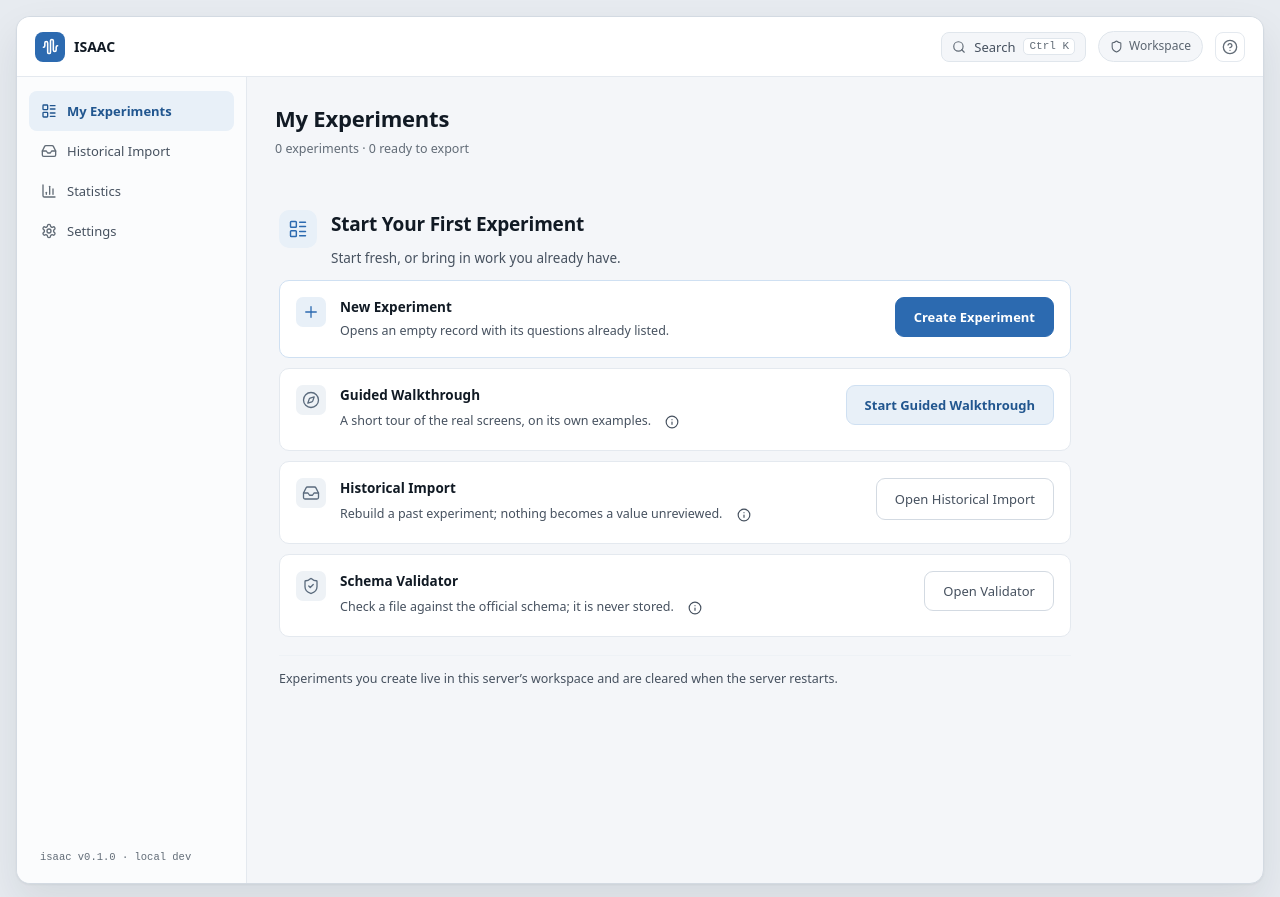
Test: My Experiments · Create Experiment › QA A-29: says the experiment is being created while the request is in flight
Expected: the heading "Start Your First Experiment" is shown, x1=331 y1=210 x2=621 y2=240
Click the button "Create Experiment": (974, 316) x1=895 y1=296 x2=1054 y2=336
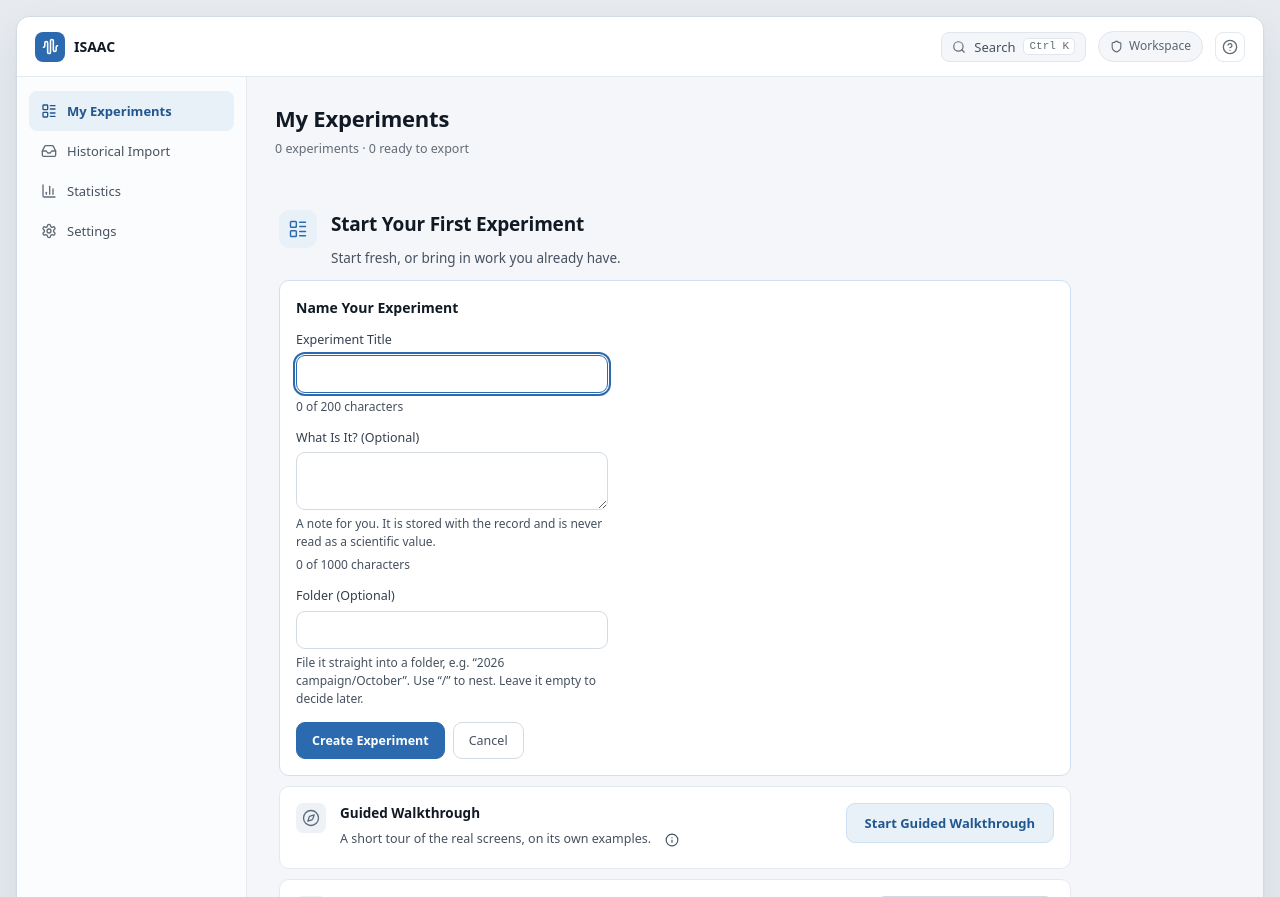
In the field labelled "Experiment Title": (452, 374) x1=296 y1=355 x2=608 y2=393, type "Synthetic in-flight probe (fake)"
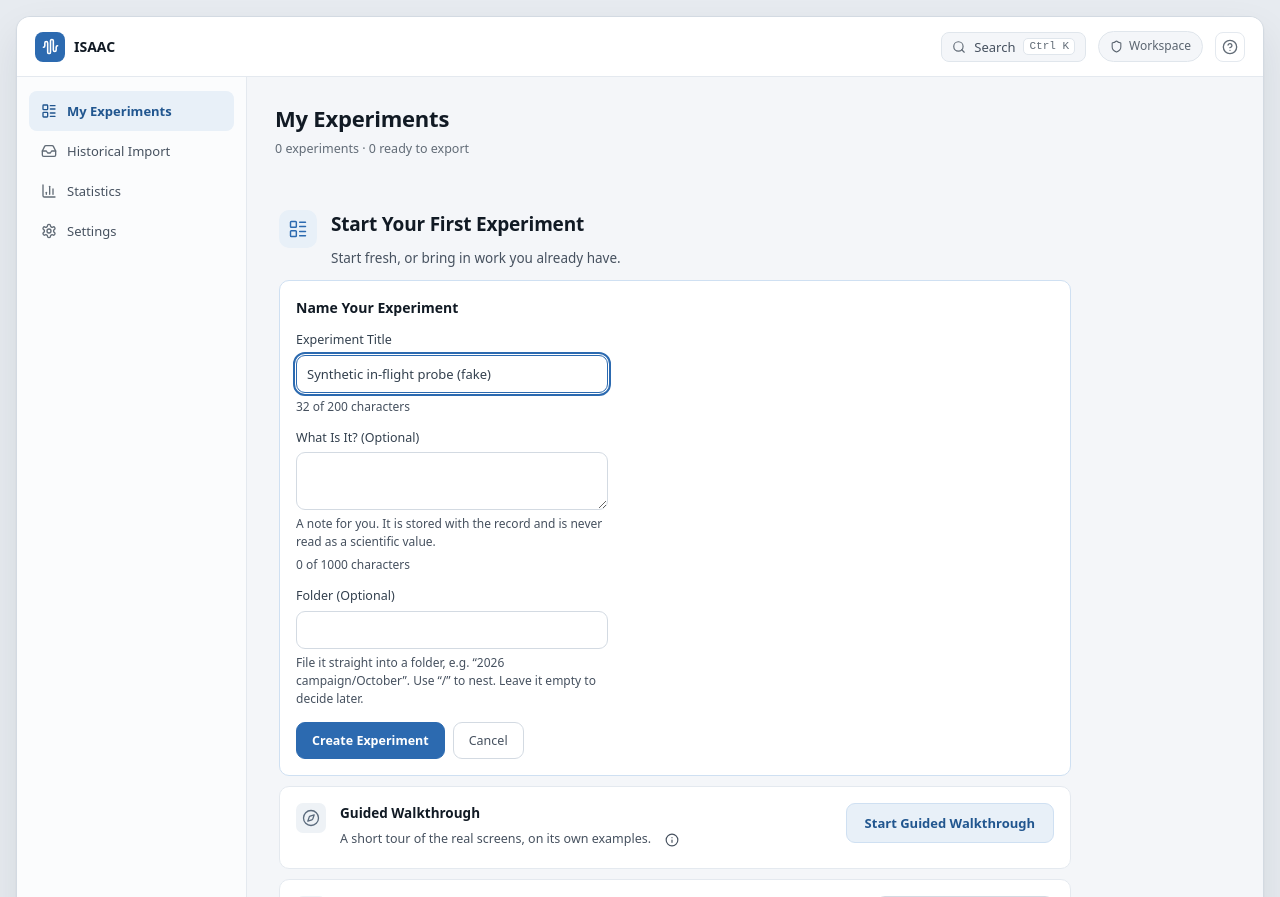
Click the button "Create Experiment": (370, 740) x1=296 y1=722 x2=445 y2=759
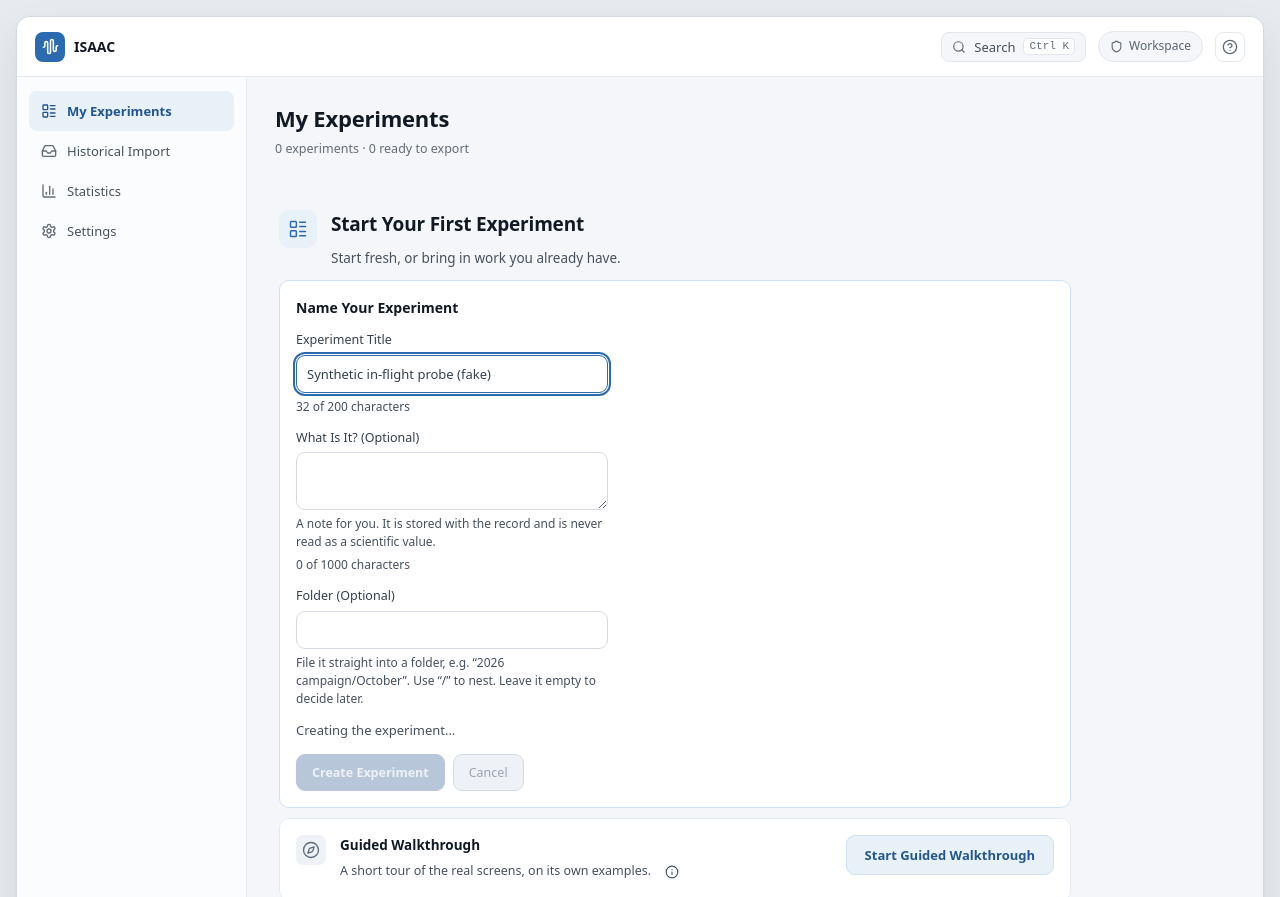
Result: the message with class "create-experiment-status" reads "Creating the experiment…" at x1=296 y1=721 x2=455 y2=739
